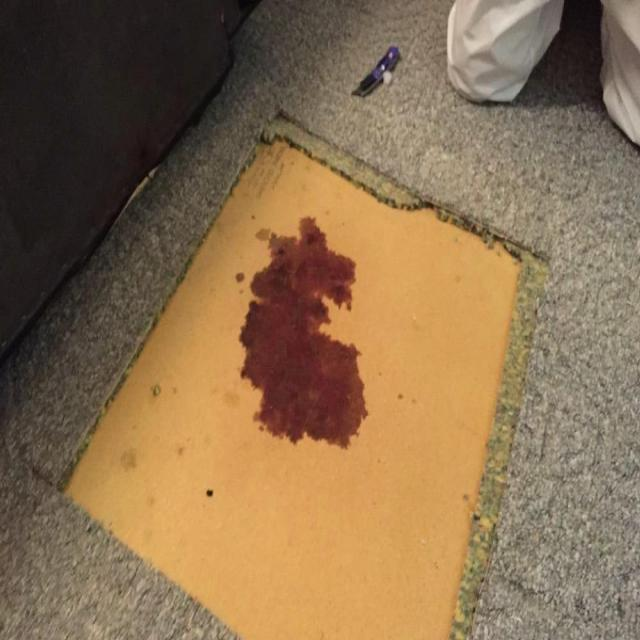flood: (244, 201, 368, 457)
